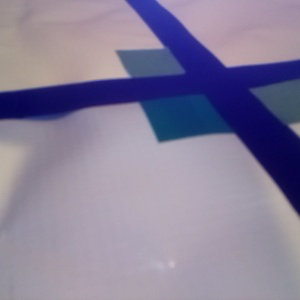bottom_left: (139, 77, 247, 141)
bottom_right: (236, 67, 300, 124)
top_left: (116, 48, 206, 93)
